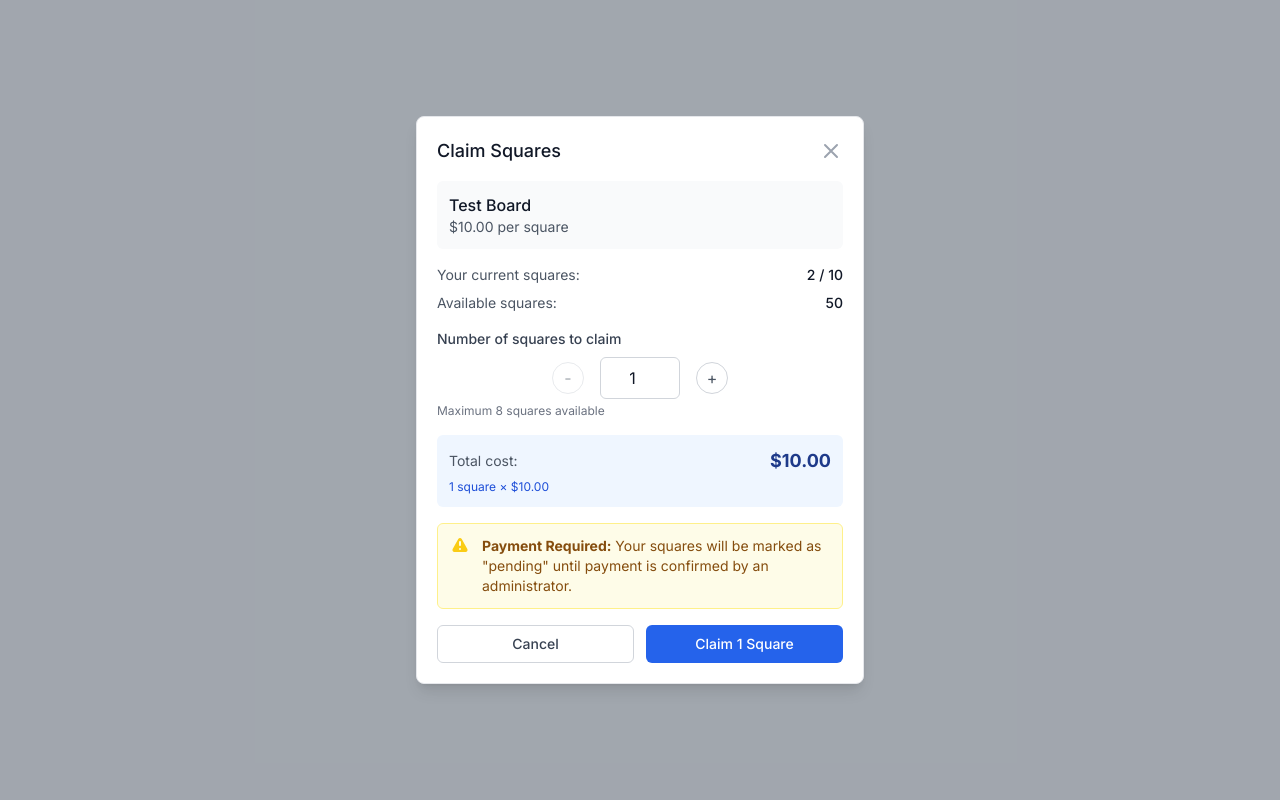
it: SquareClaimModal › updates number of squares with buttons
Check: the number field holds "1", box [600, 357, 680, 399]
Click the button "+": (712, 378) [696, 362, 728, 394]
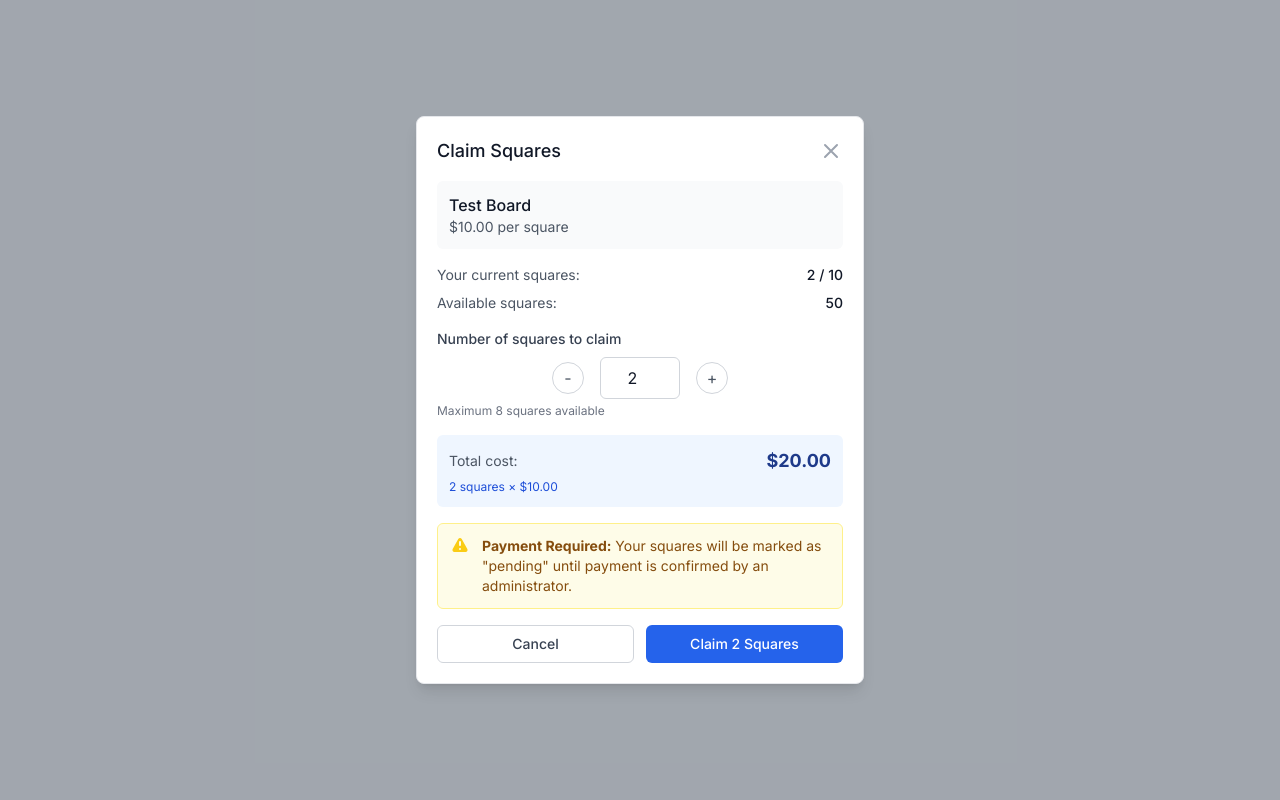
Check: the number field holds "2", box [600, 357, 680, 399]
Click the button "-": (568, 378) [552, 362, 584, 394]
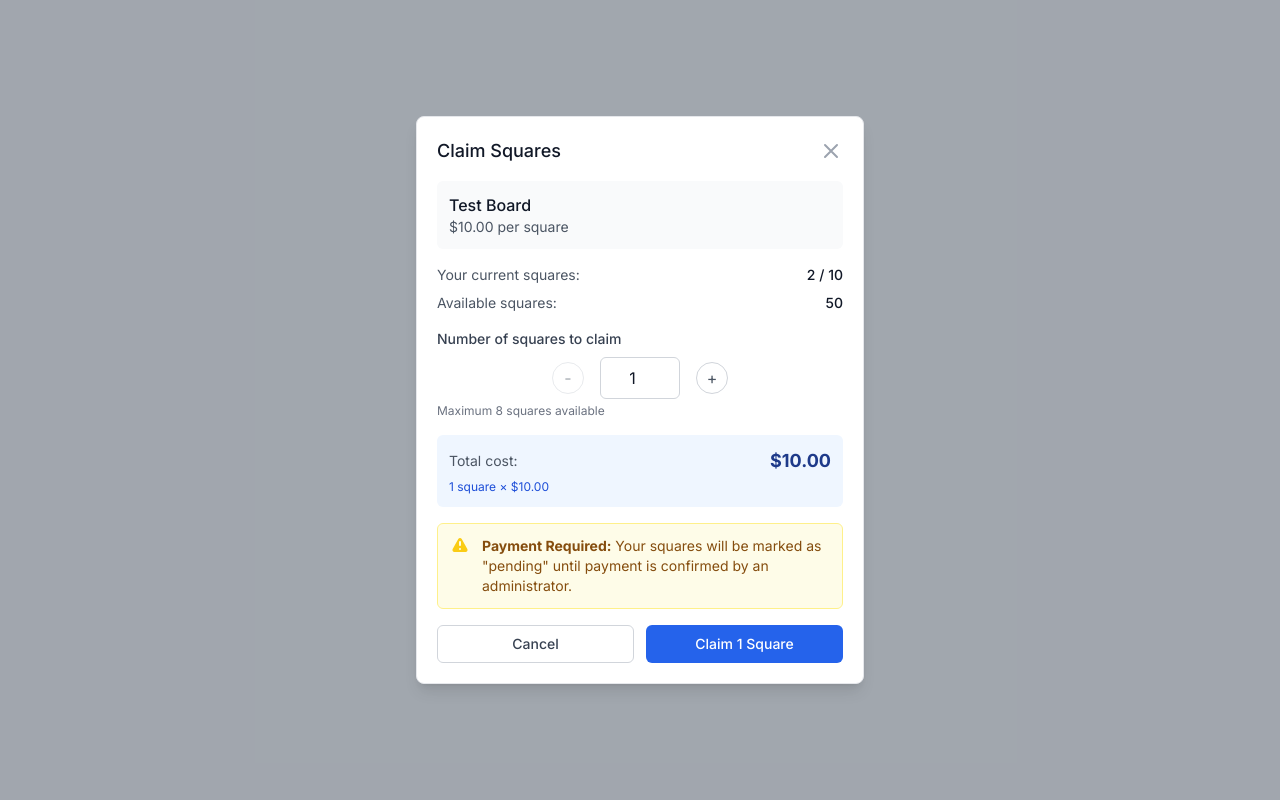
Check: the number field holds "1", box [600, 357, 680, 399]
